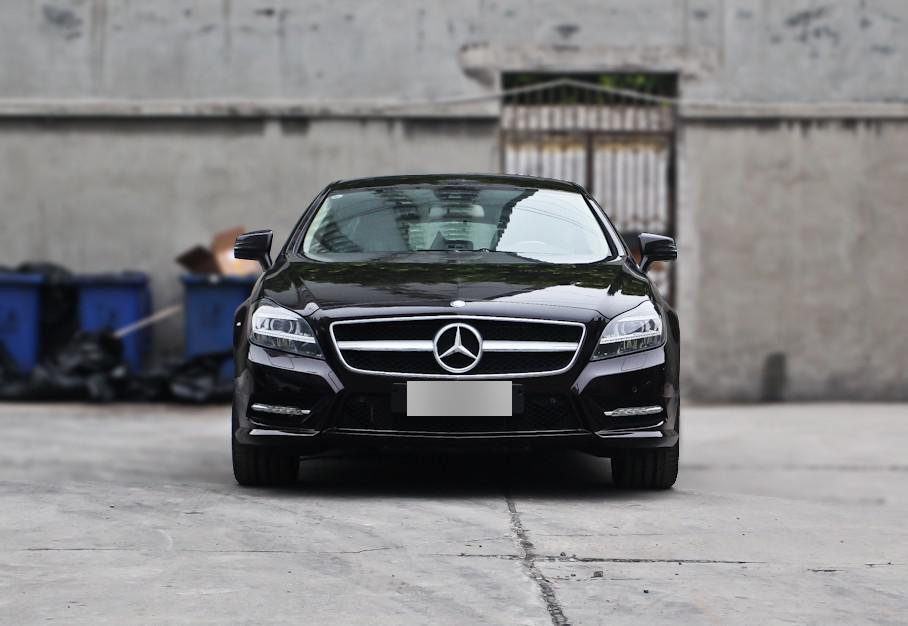Wagon: (230, 172, 682, 489)
